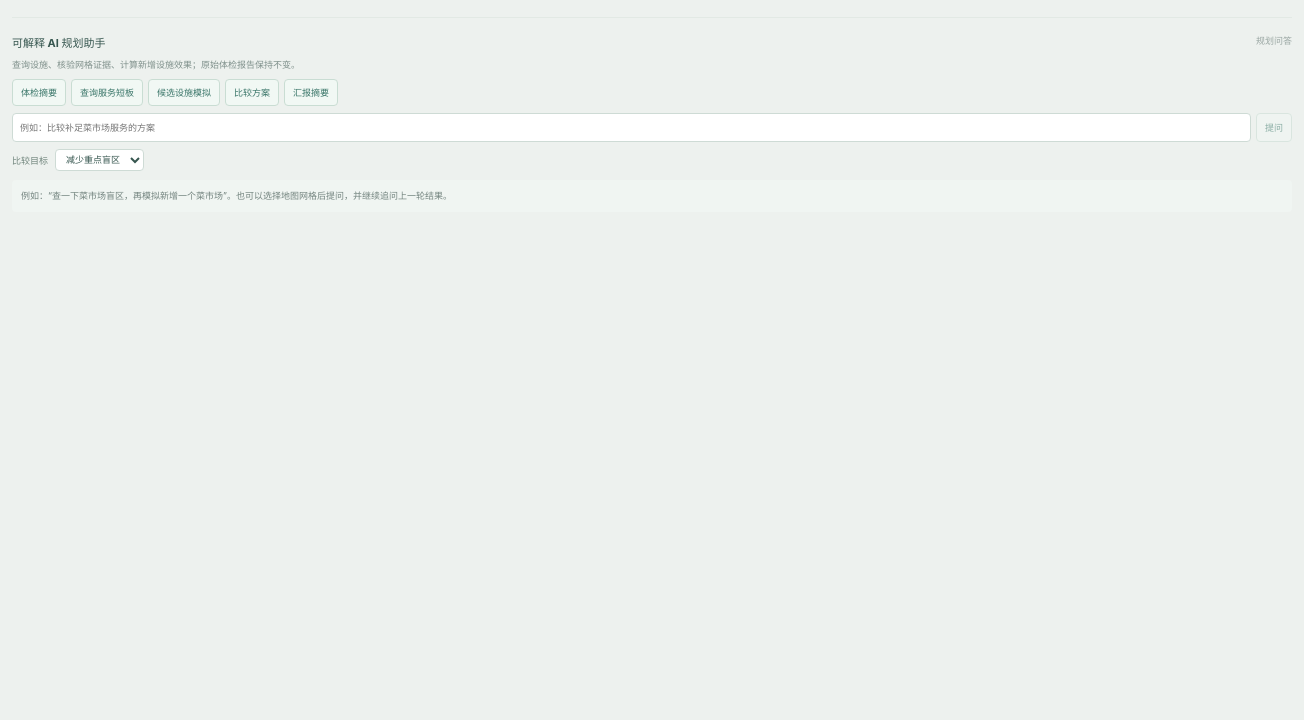
it: 工具规划助手 › 完成的模拟发给地图，快捷模拟也走工具接口
The image size is (1304, 720).
Click the button "候选设施模拟" at (184, 92), box top-left (148, 79), bottom-right (220, 106)
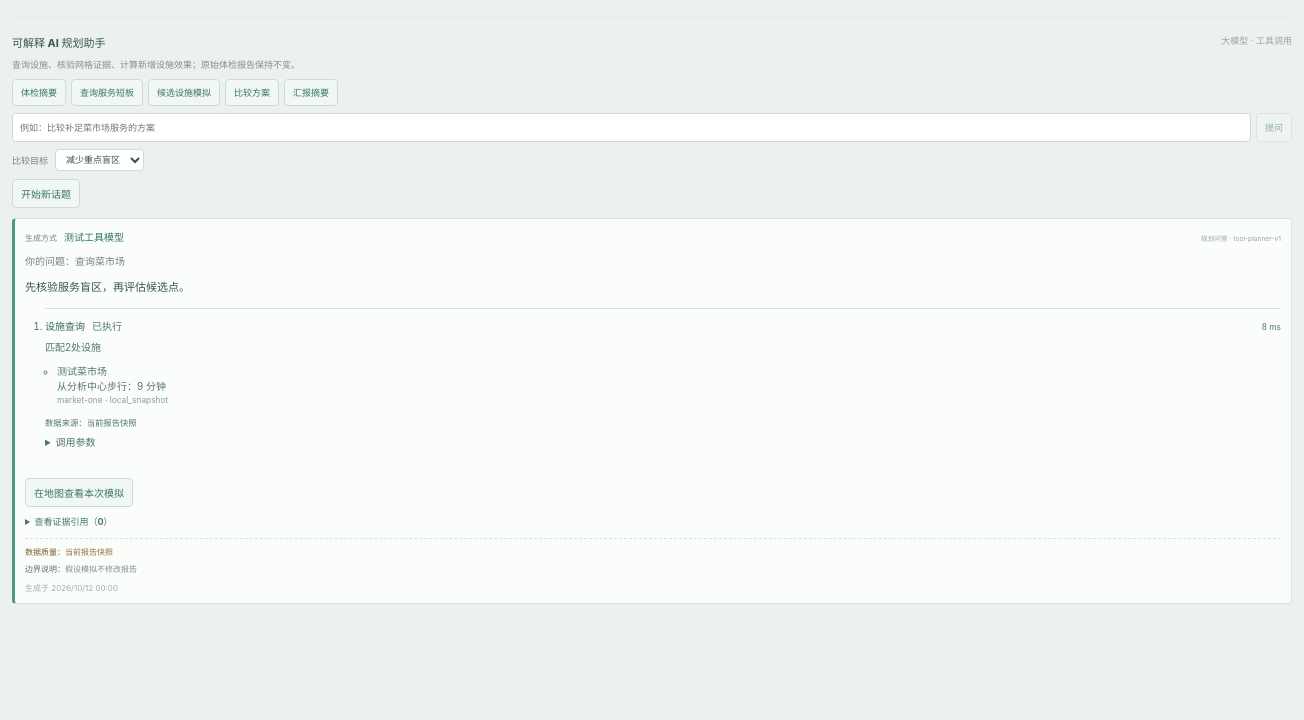
Expected: the text "在地图查看本次模拟" is shown, top-left (25, 478), bottom-right (133, 507)
